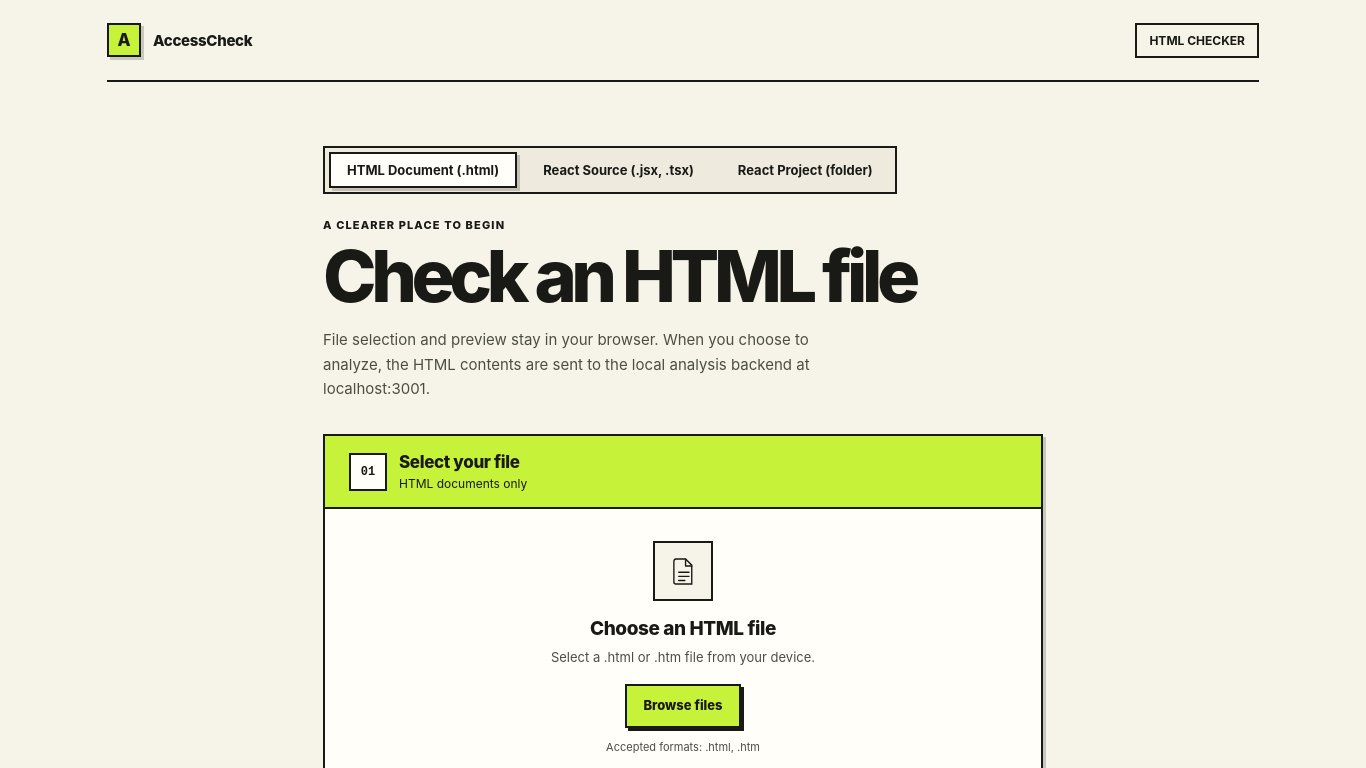
App Component - Mode Switching › switches mode when tab clicked
Click the tab "React Source (.jsx, .tsx)" at (619, 170), box [525,152,712,188]
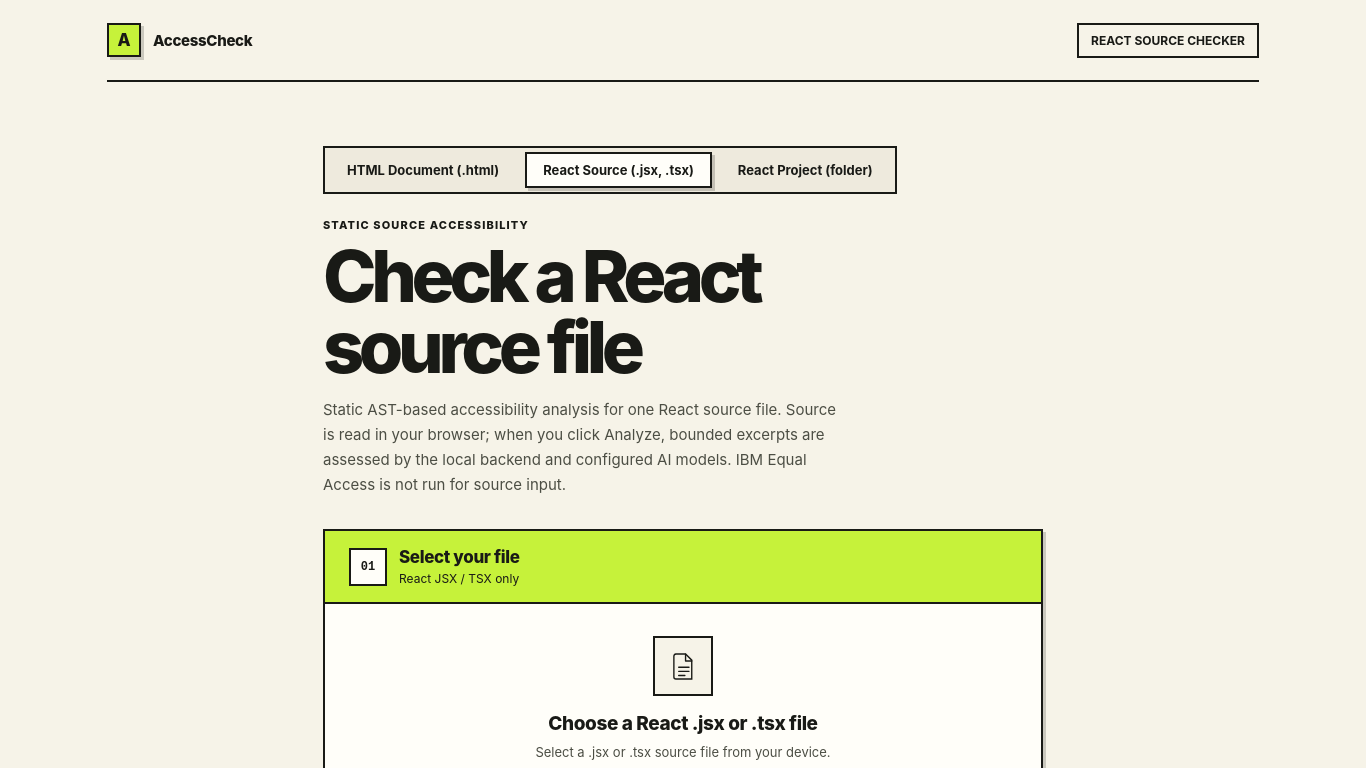
Expected: the tab "React Source (.jsx, .tsx)" is selected, [525,152,712,188]
Expected: the tab "HTML Document (.html)" is not selected, [329,152,517,188]
